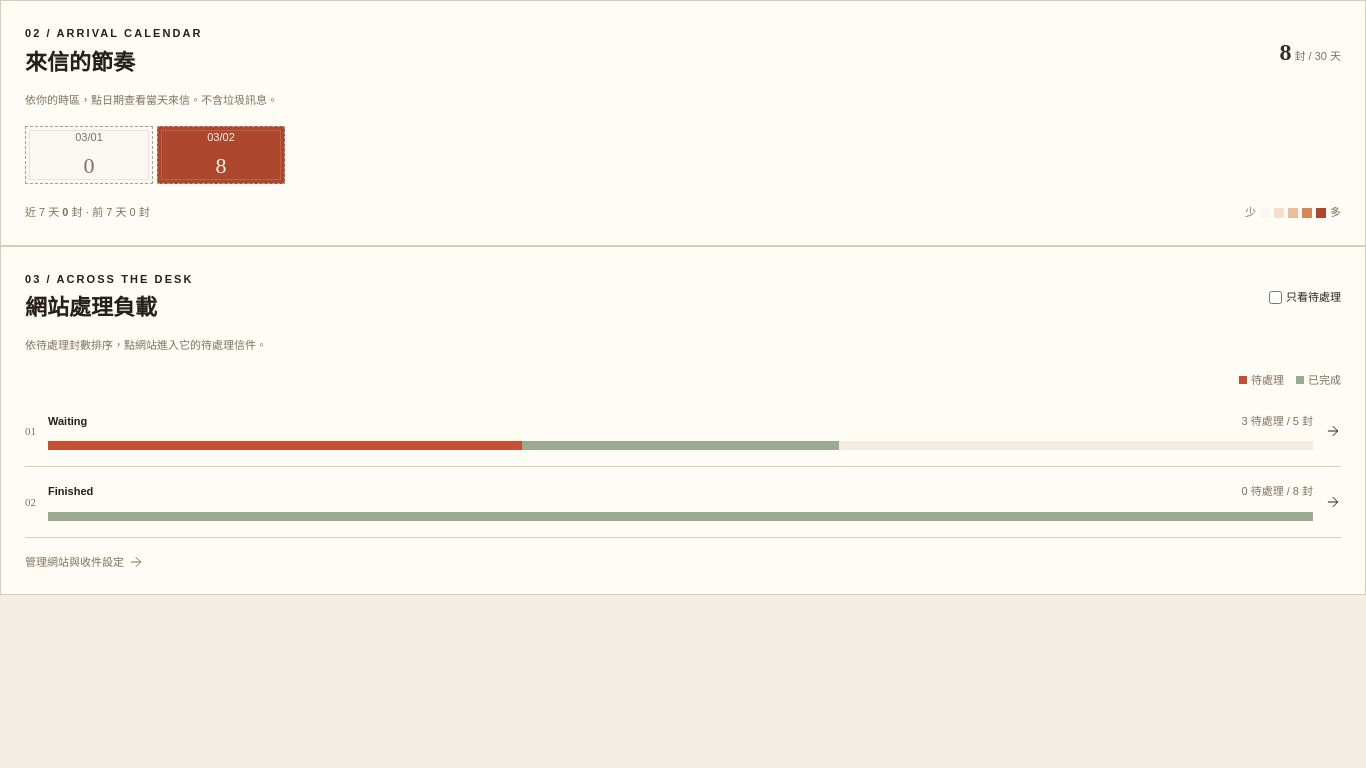
it: zero arrival dates remain clickable and site workload can hide completed sites
Expected: the text "Finished" is shown, x1=48 y1=483 x2=93 y2=500
Click the checkbox labelled "只看待處理" at (1276,298), box x1=1269 y1=291 x2=1282 y2=304
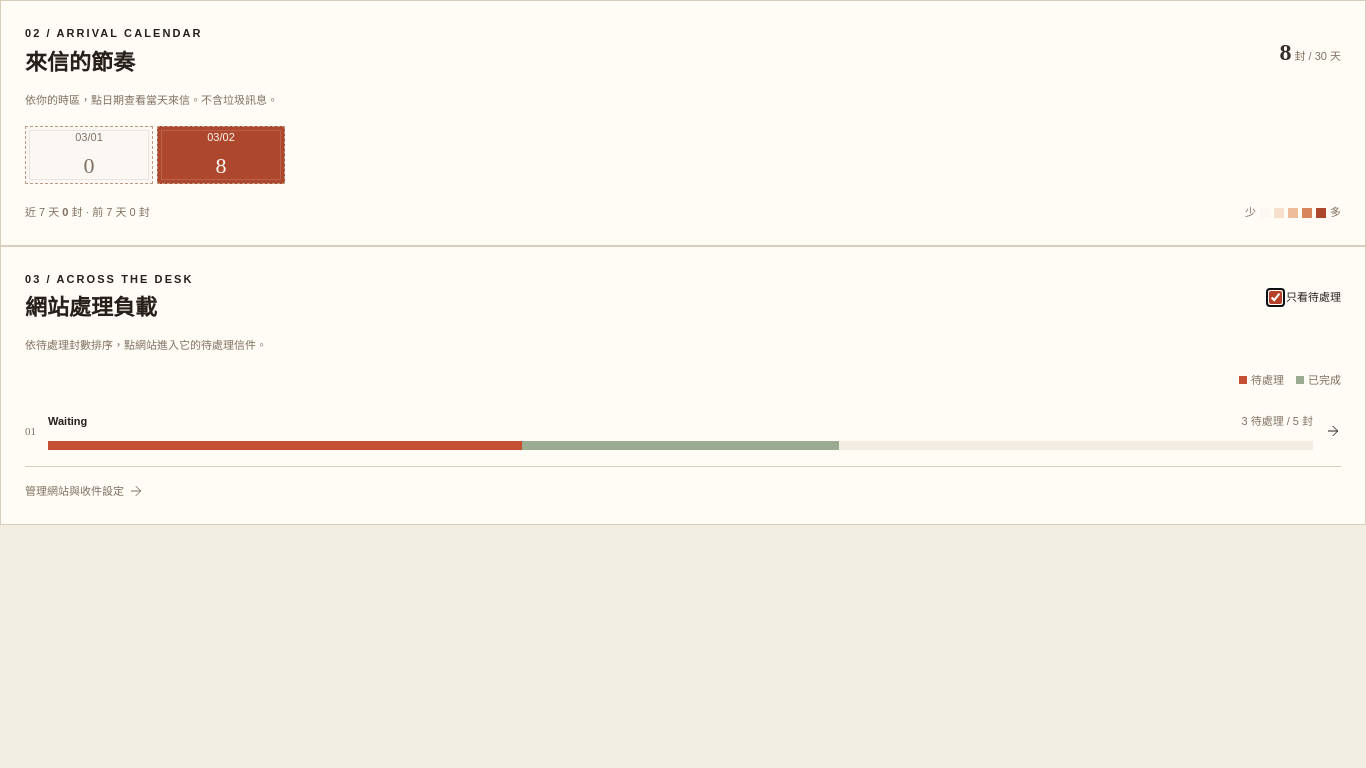
Now the link "Finished" is gone
